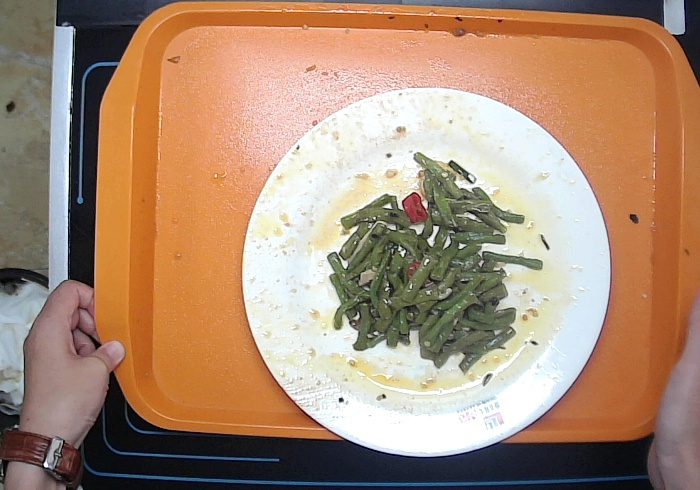ZNLD-Da_Yuan_Pan: (233, 83, 618, 456)
